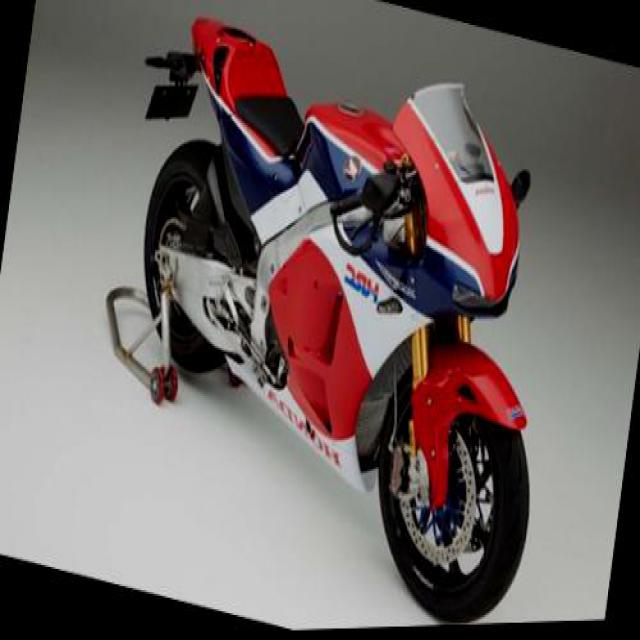HRC RCV 213: (76, 0, 584, 636)
